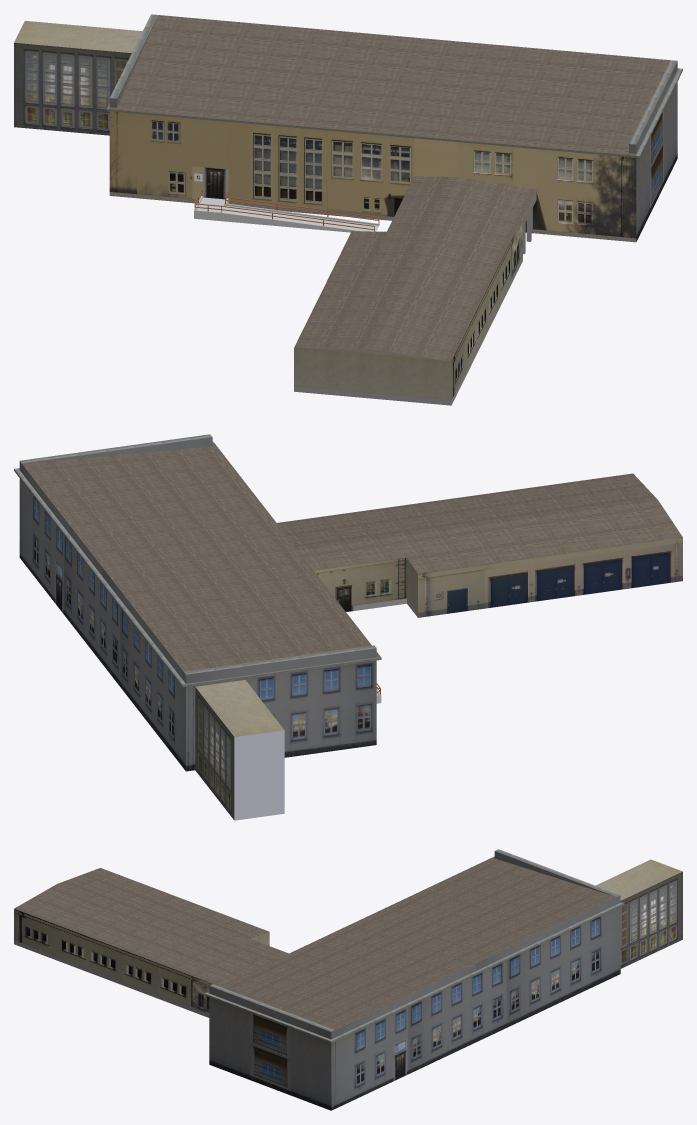
The picture shows the model from 3 angles, top to bottom: view 1: azimuth 30°, elevation 25°; view 2: azimuth 150°, elevation 25°; view 3: azimuth 270°, elevation 25°; orthographic projection. The views are drawn at different scales.
Parts seen in each view (by area): view 1: Mesh1 Model; view 2: Mesh1 Model; view 3: Mesh1 Model.
Part boxes in pixels (x1,y1,x2,y2): Mesh1 Model: (14, 14, 682, 405); Mesh1 Model: (14, 434, 682, 820); Mesh1 Model: (14, 849, 682, 1110).
Size of the model in its own units: 41.59 by 7.3 by 56.13.
42 materials, 37 textured.
